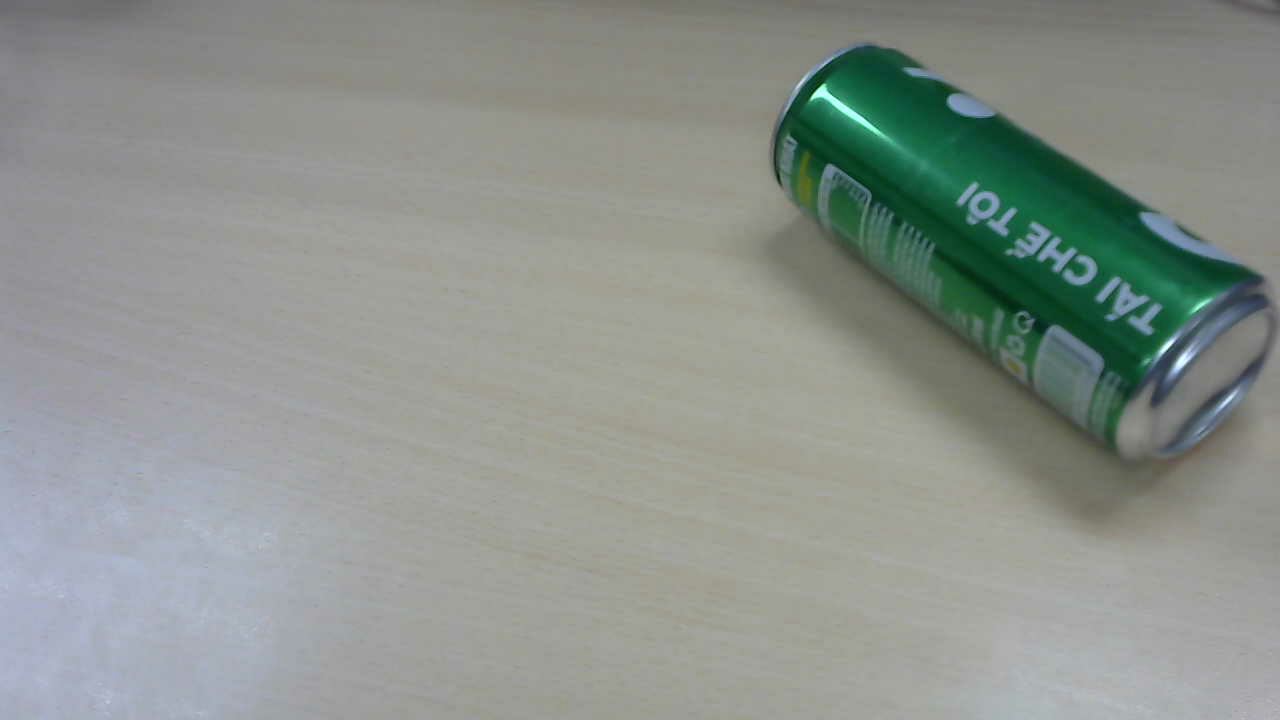Sprite: (773, 41, 1278, 463)
